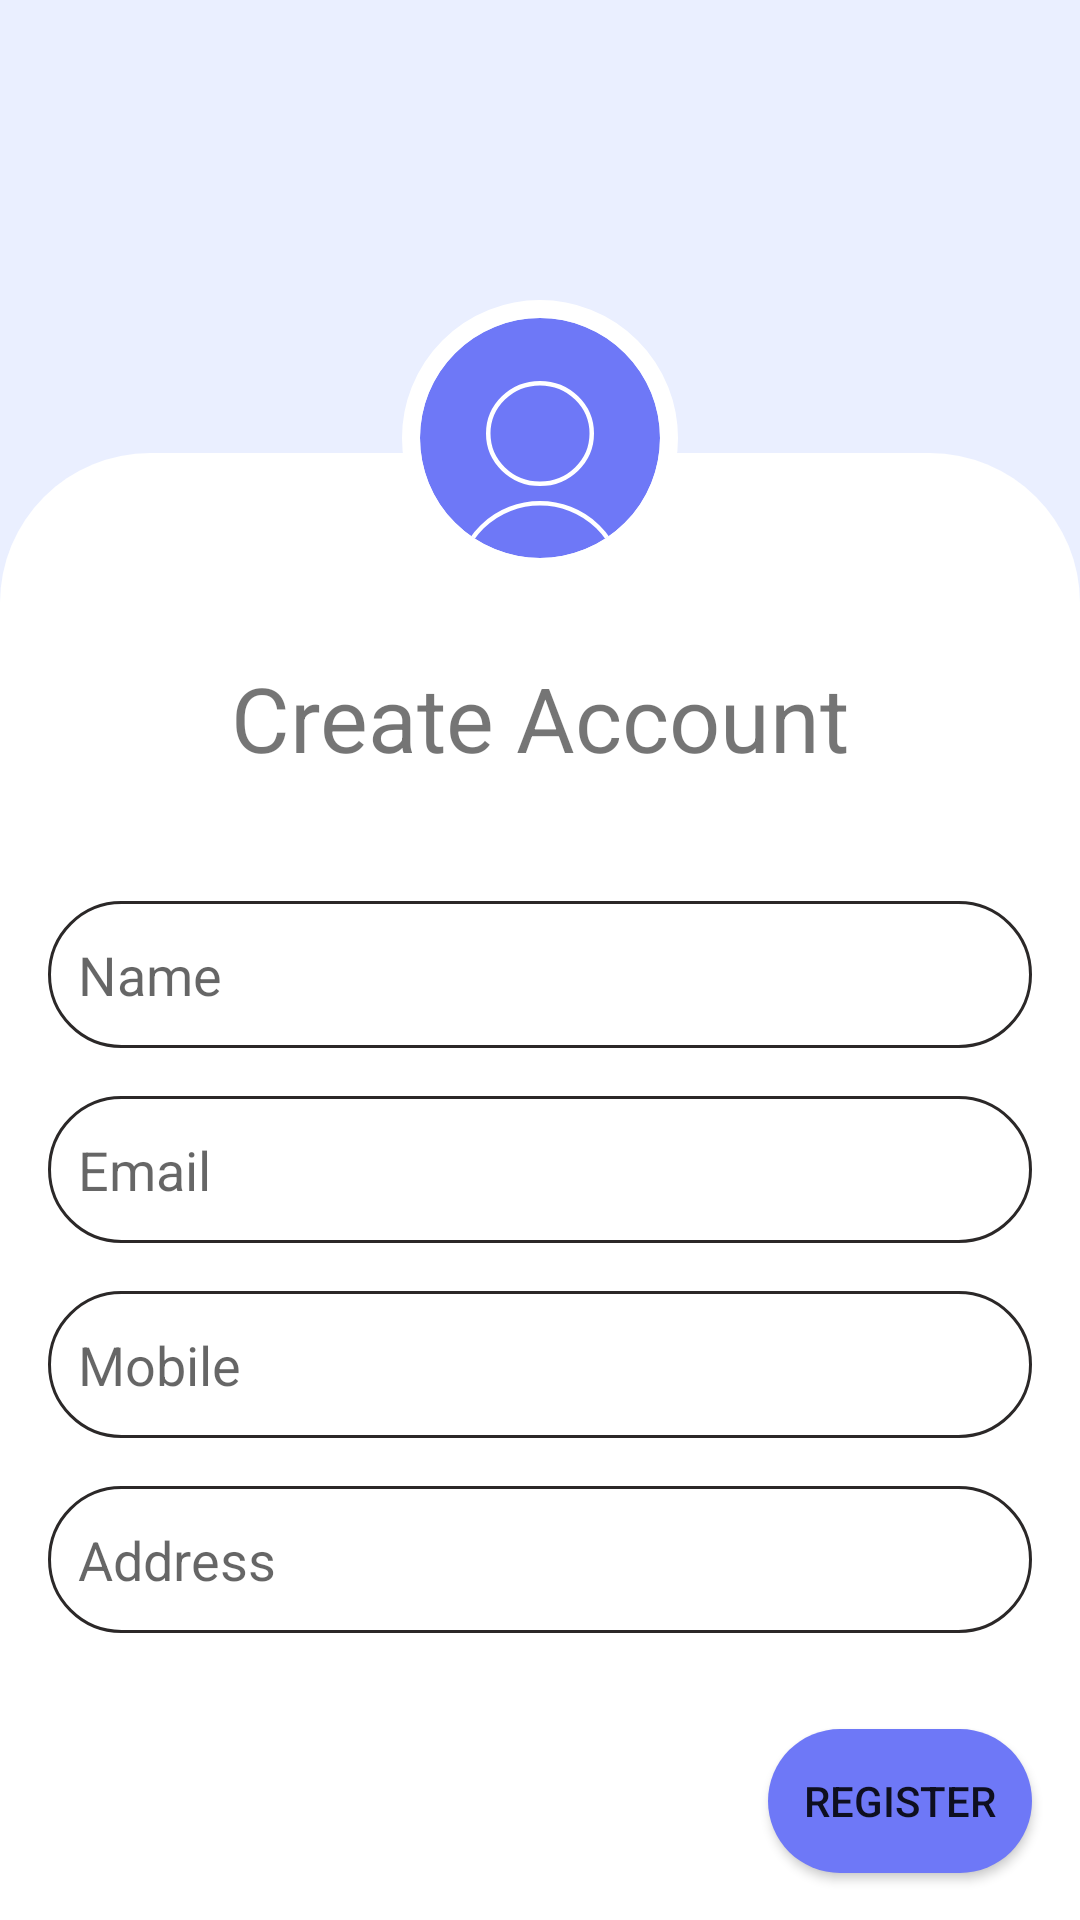

Icons on this 1080 × 1920 Android screen, each with the point to tap as (x,y):
user: (540,438)
